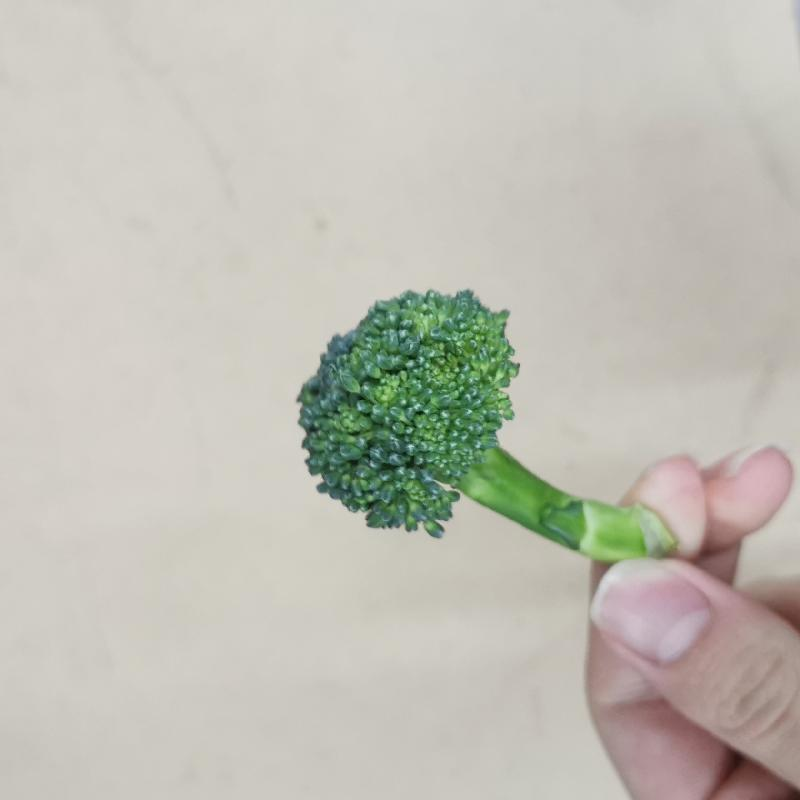broccoli: (296, 286, 685, 578)
